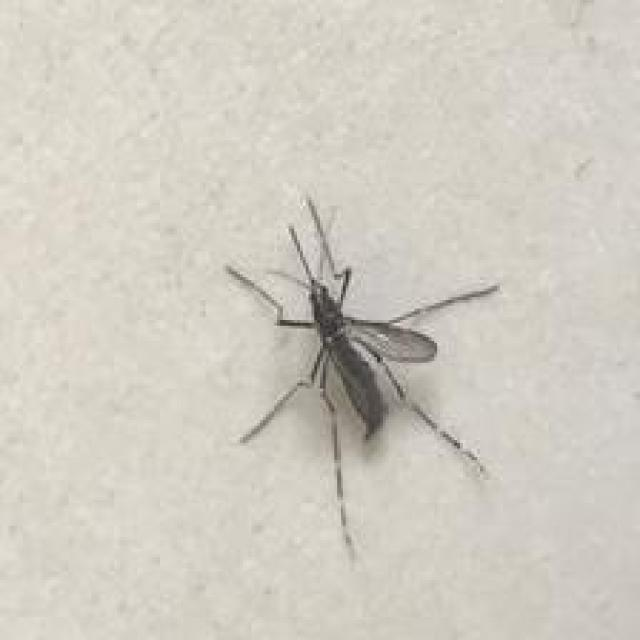Aedes albopictus: (222, 193, 502, 561)
